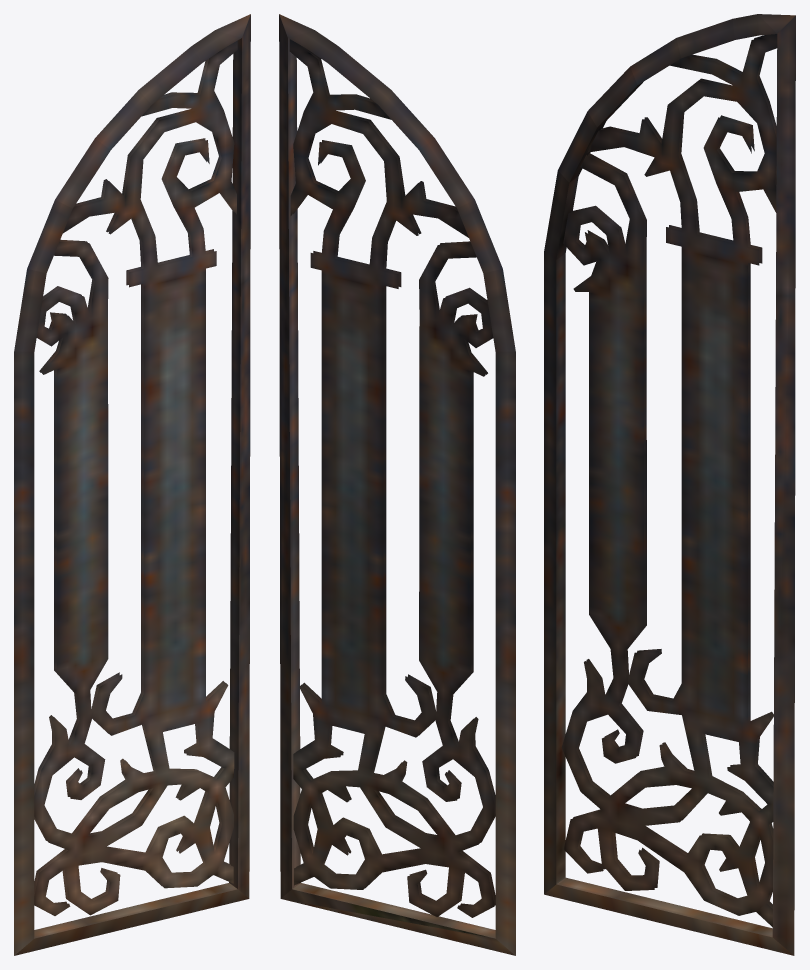
File: SM_Plains_CastleArch_Iron_Gate_02.FBX
3 views of the same model, side by side, from view 1: azimuth 30°, elevation 25°; view 2: azimuth 150°, elevation 25°; view 3: azimuth 330°, elevation 25° (orthographic). The views are drawn at different scales.
Visible parts, largest first — view 1: SM_Plains_CastleArch_Iron_Gate_02; view 2: SM_Plains_CastleArch_Iron_Gate_02; view 3: SM_Plains_CastleArch_Iron_Gate_02.
Boxes of the visible parts, box(x1,y1,x2,y2) form: SM_Plains_CastleArch_Iron_Gate_02: box(14, 14, 250, 955); SM_Plains_CastleArch_Iron_Gate_02: box(279, 14, 515, 955); SM_Plains_CastleArch_Iron_Gate_02: box(544, 14, 795, 955).
Size of the model in its own units: 33.59 by 120 by 2.16.
